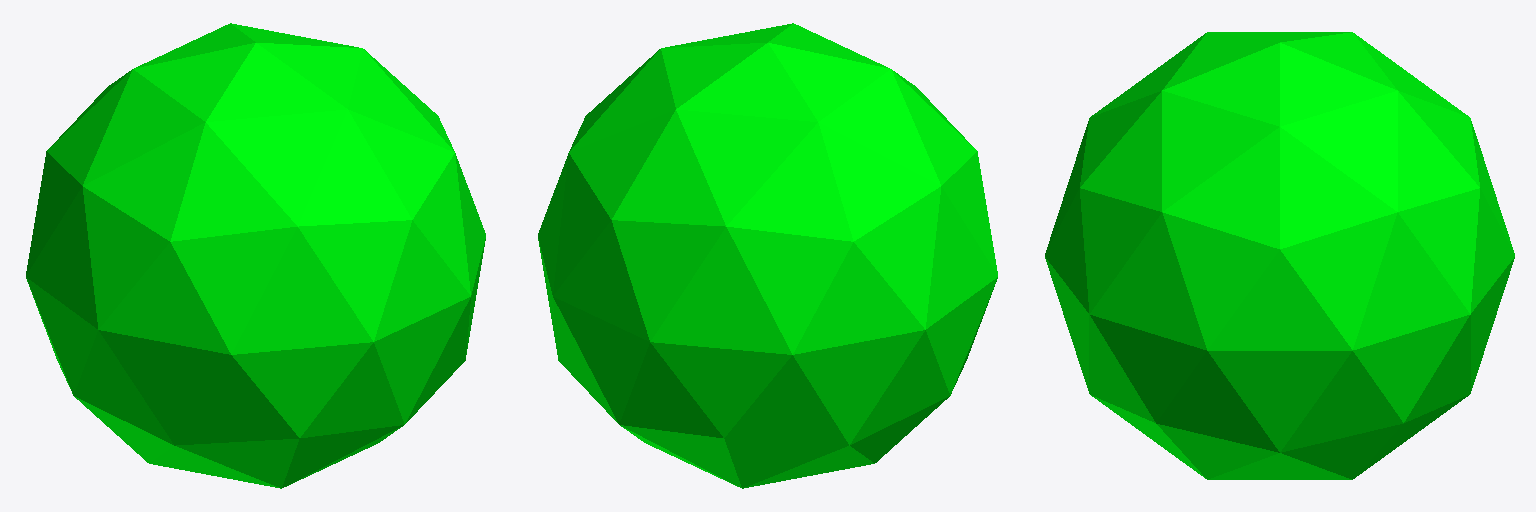
3 views of the same model, side by side, from view 1: azimuth 30°, elevation 25°; view 2: azimuth 150°, elevation 25°; view 3: azimuth 270°, elevation 25° (orthographic).
Visible parts, largest first — view 1: Icosphere; view 2: Icosphere; view 3: Icosphere.
Part boxes in pixels (left/top/right/bottom): Icosphere: left=26, top=23, right=485, bottom=488; Icosphere: left=538, top=23, right=997, bottom=488; Icosphere: left=1045, top=32, right=1514, bottom=479.
Bounding box in the file's own units: 1.9 × 2 × 2.
Materials: 1 (1 with a texture image).